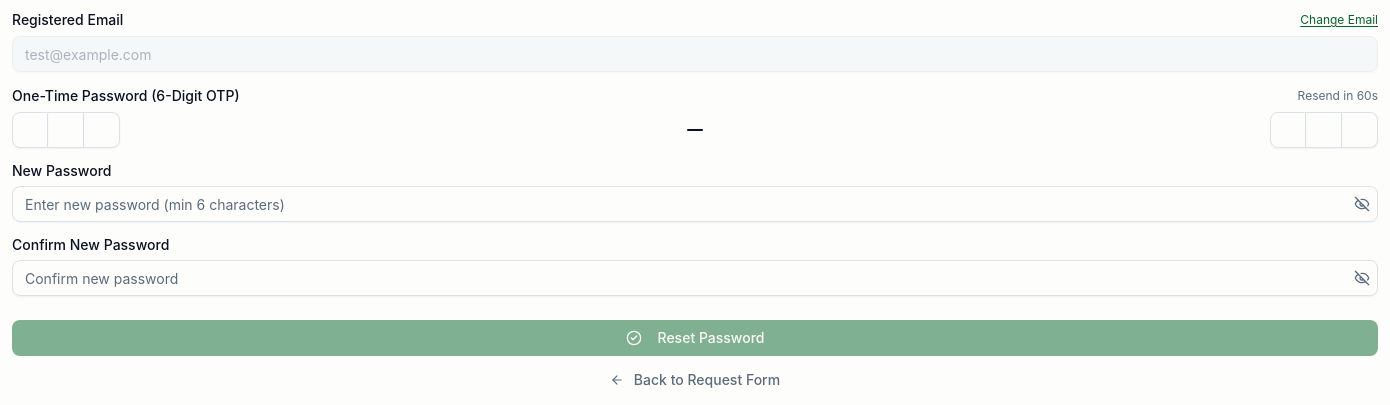
Test: OtpForm › disables submit button until 6 digits are entered
Later steps or results of the test are not shown.
Check: the button "Reset Password" is disabled, box [12,320,1378,356]
Type "12345" into the field labelled "One-Time Password (6-Digit OTP)" at (695, 130), box [12,112,1378,148]
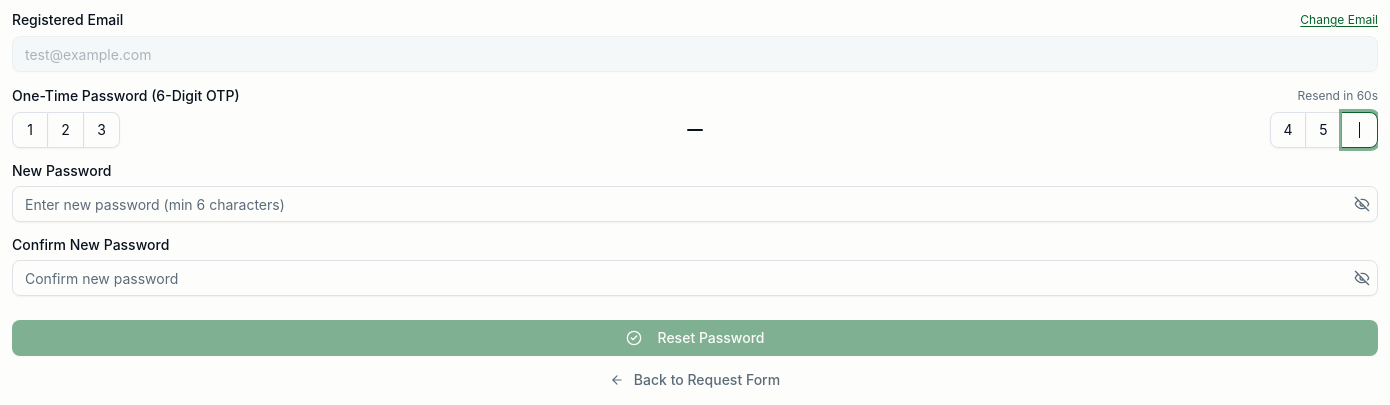
Check: the button "Reset Password" is disabled, box [12,320,1378,356]
Replace the text in the field labelled "One-Time Password (6-Digit OTP)" with "123456" at (695, 130), box [12,112,1378,148]
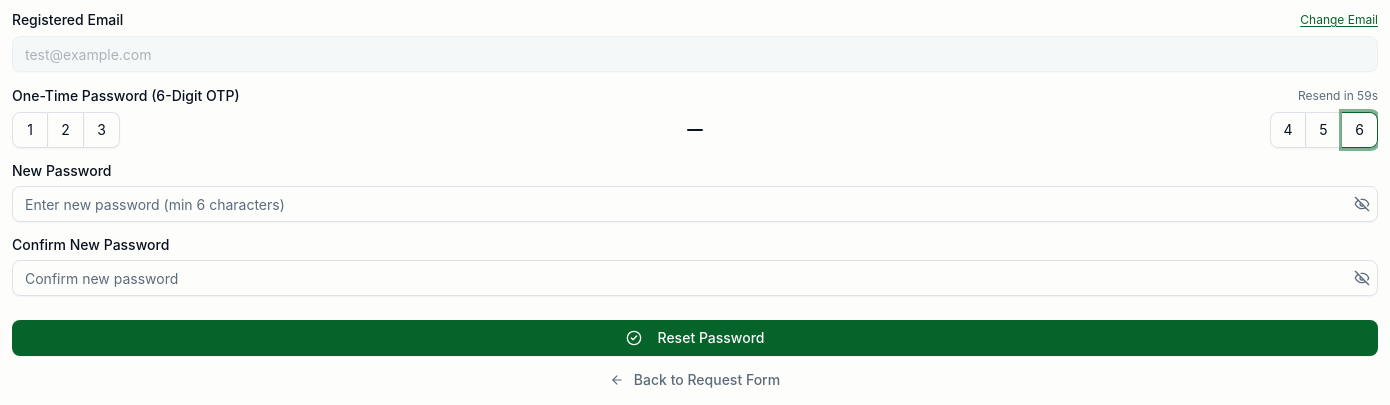
Check: the button "Reset Password" is enabled, box [12,320,1378,356]
